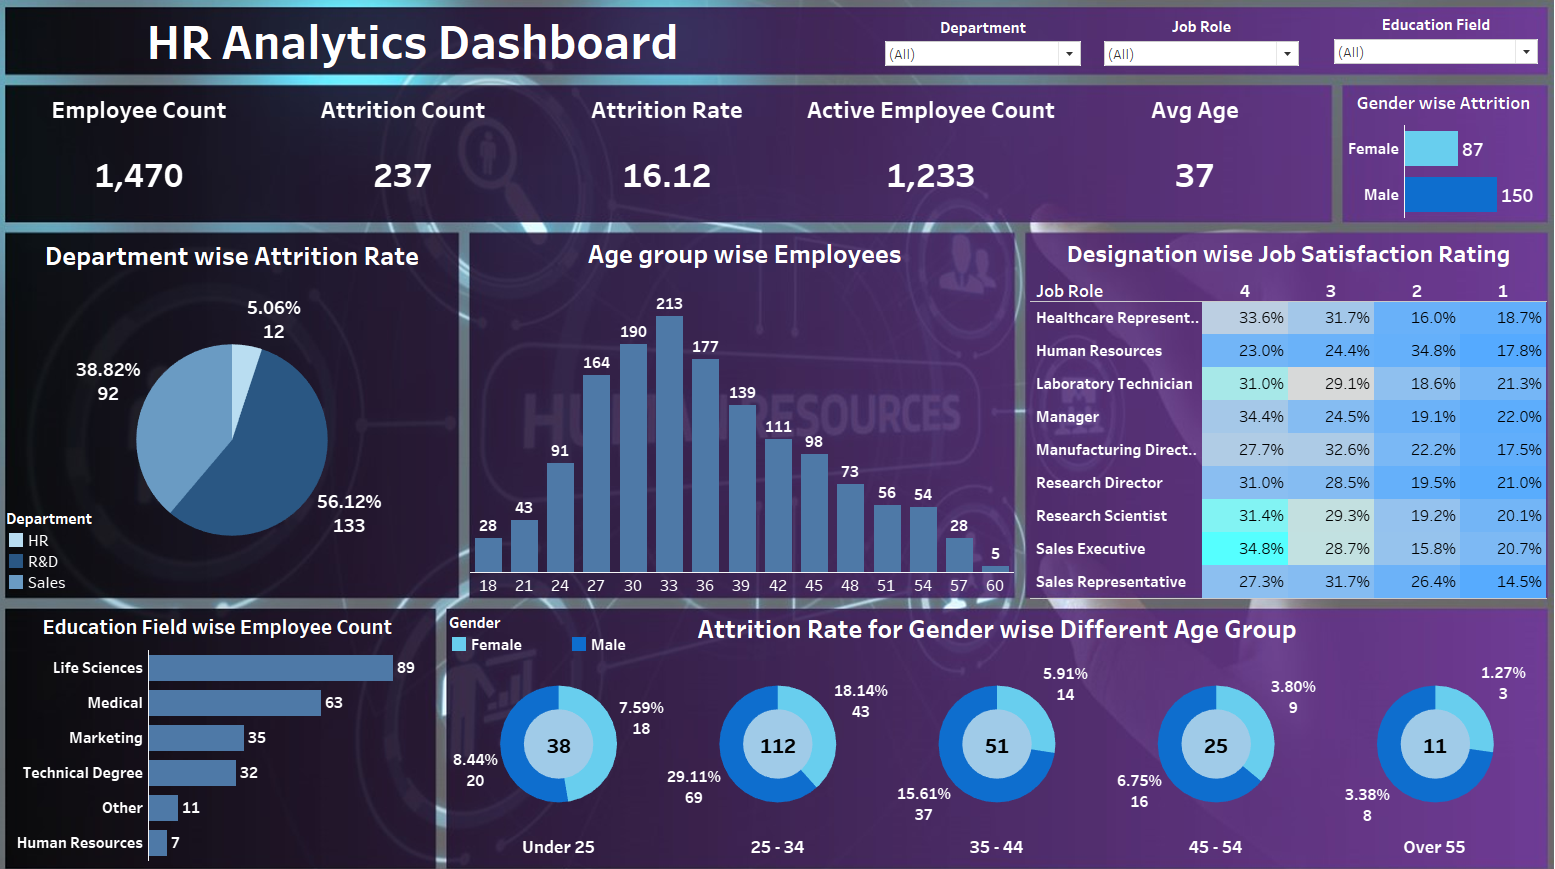

This screenshot's page, from the dashboard's own definition file:
{"tool":"tableau","page":{"name":"Dashboard 1","canvas":[1580,900],"ordinal":0},"visuals":[{"type":"image","param":"Image/HR background.jpg","box":[8,8,1564,884]},{"type":"text","box":[20,20,813,63]},{"type":"filter","title":" Age group wise Employees","param":"[federated.1dmksg11q0hnda1cwvioo1tdf3a3].[none:Education Field:nk]","box":[1345,26,210,55]},{"type":"filter","title":"Total Employees Job Role wise their Job Satisfaction","param":"[federated.1dmksg11q0hnda1cwvioo1tdf3a3].[none:Job Role:nk]","box":[1115,28,201,56]},{"type":"filter","title":"Department wise Attrition Rate","param":"[federated.1dmksg11q0hnda1cwvioo1tdf3a3].[none:Department:nk]","box":[896,29,202,52]},{"type":"worksheet","title":"Gender wise Attrition Rate","mark":"Automatic","rows":["Gender"],"cols":["Calculation_271623374314242048"],"box":[1358,98,202,133]},{"type":"worksheet","title":"KPI's","mark":"Automatic","box":[21,99,1330,133]},{"type":"worksheet","title":" Age group wise Employees","mark":"Automatic","rows":["Employee Count"],"cols":["Age (bin)"],"box":[484,244,544,365]},{"type":"worksheet","title":"Total Employees Job Role wise their Job Satisfaction","mark":"Square","rows":["Job Role"],"cols":["Job Satisfaction"],"box":[1044,245,517,368]},{"type":"worksheet","title":"Department wise Attrition Rate","mark":"Pie","box":[19,246,454,363]},{"type":"legend","title":"Department wise Attrition Rate","param":"[federated.1dmksg11q0hnda1cwvioo1tdf3a3].[none:Department:nk]","box":[20,520,140,85]},{"type":"worksheet","title":"Attrition Rate for Gender wise Different Age Groups","mark":"Pie","rows":["Calculation_271623374339080198","Calculation_271623374339080198"],"cols":["CF_age band"],"box":[463,619,1096,260]},{"type":"worksheet","title":"Education Field wise Employee Count ","mark":"Automatic","rows":["Education Field"],"cols":["Calculation_271623374314242048"],"box":[22,620,429,259]},{"type":"legend","title":"Attrition Rate for Gender wise Different Age Groups","param":"[federated.1dmksg11q0hnda1cwvioo1tdf3a3].[none:Gender:nk]","box":[463,624,246,48]}]}

Visuals, with their boxes in screenshot pixels (x1, y1, x2, y2), scaled from the page's 1580x900 canvas onto the 1555x869 screenshot:
image: [8,8,1547,861]
text: [20,19,820,80]
" Age group wise Employees" filter: [1324,25,1530,78]
"Total Employees Job Role wise their Job Satisfaction" filter: [1097,27,1295,81]
"Department wise Attrition Rate" filter: [882,28,1081,78]
"Gender wise Attrition Rate" worksheet: [1337,95,1535,223]
"KPI's" worksheet: [21,96,1330,224]
" Age group wise Employees" worksheet: [476,236,1012,588]
"Total Employees Job Role wise their Job Satisfaction" worksheet (Square marks): [1027,237,1536,592]
"Department wise Attrition Rate" worksheet (Pie marks): [19,238,466,588]
"Department wise Attrition Rate" legend: [20,502,157,584]
"Attrition Rate for Gender wise Different Age Groups" worksheet (Pie marks): [456,598,1534,849]
"Education Field wise Employee Count " worksheet: [22,599,444,849]
"Attrition Rate for Gender wise Different Age Groups" legend: [456,603,698,649]
